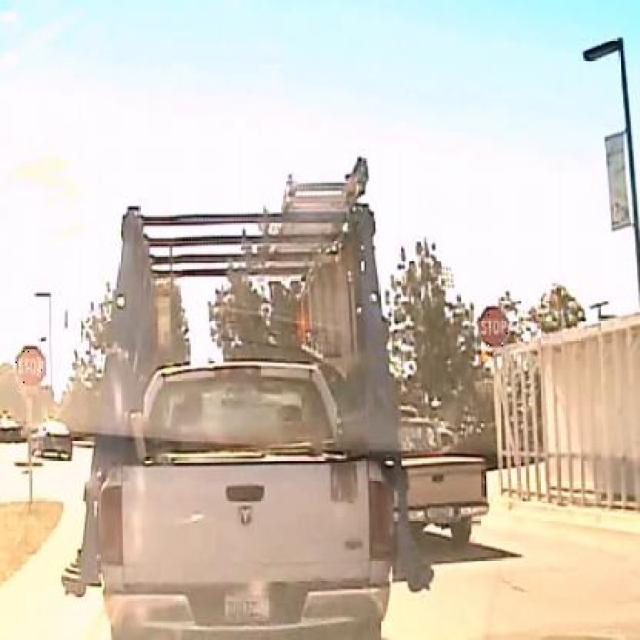stop: (477, 306, 509, 348), (15, 345, 46, 387)
